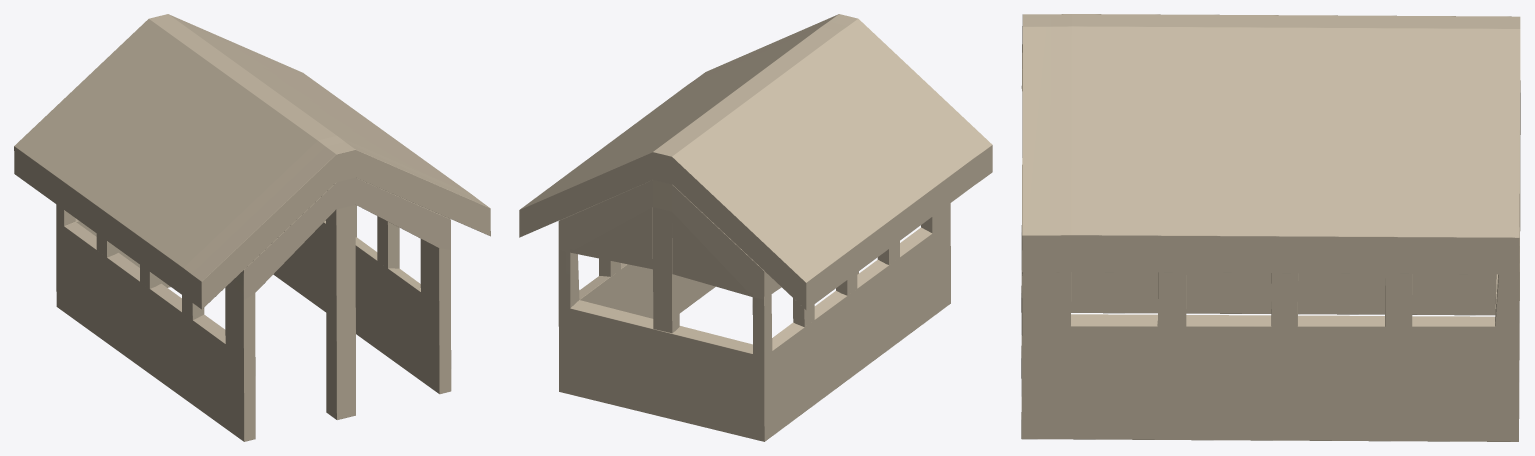
The model's file is Stable.fbx.
3 renders of one model, left to right at view 1: azimuth 30°, elevation 25°; view 2: azimuth 150°, elevation 25°; view 3: azimuth 270°, elevation 25°, orthographic. The views are drawn at different scales.
Parts seen in each view (by area): view 1: House_3; view 2: House_3; view 3: House_3.
Part boxes in pixels (<box>): House_3: <box>14,14,490,441</box>; House_3: <box>519,14,992,441</box>; House_3: <box>1021,14,1520,441</box>.
Size of the model in its own units: 3.02 by 2.66 by 3.4.
